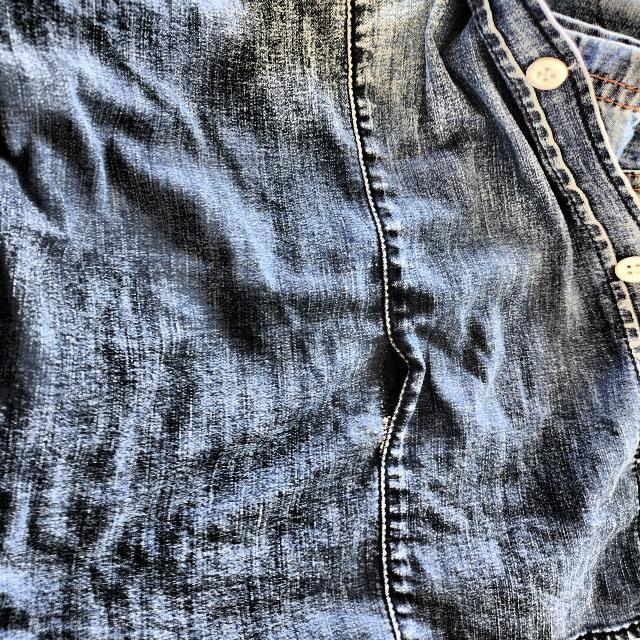gray stitch: (373, 311, 437, 429)
